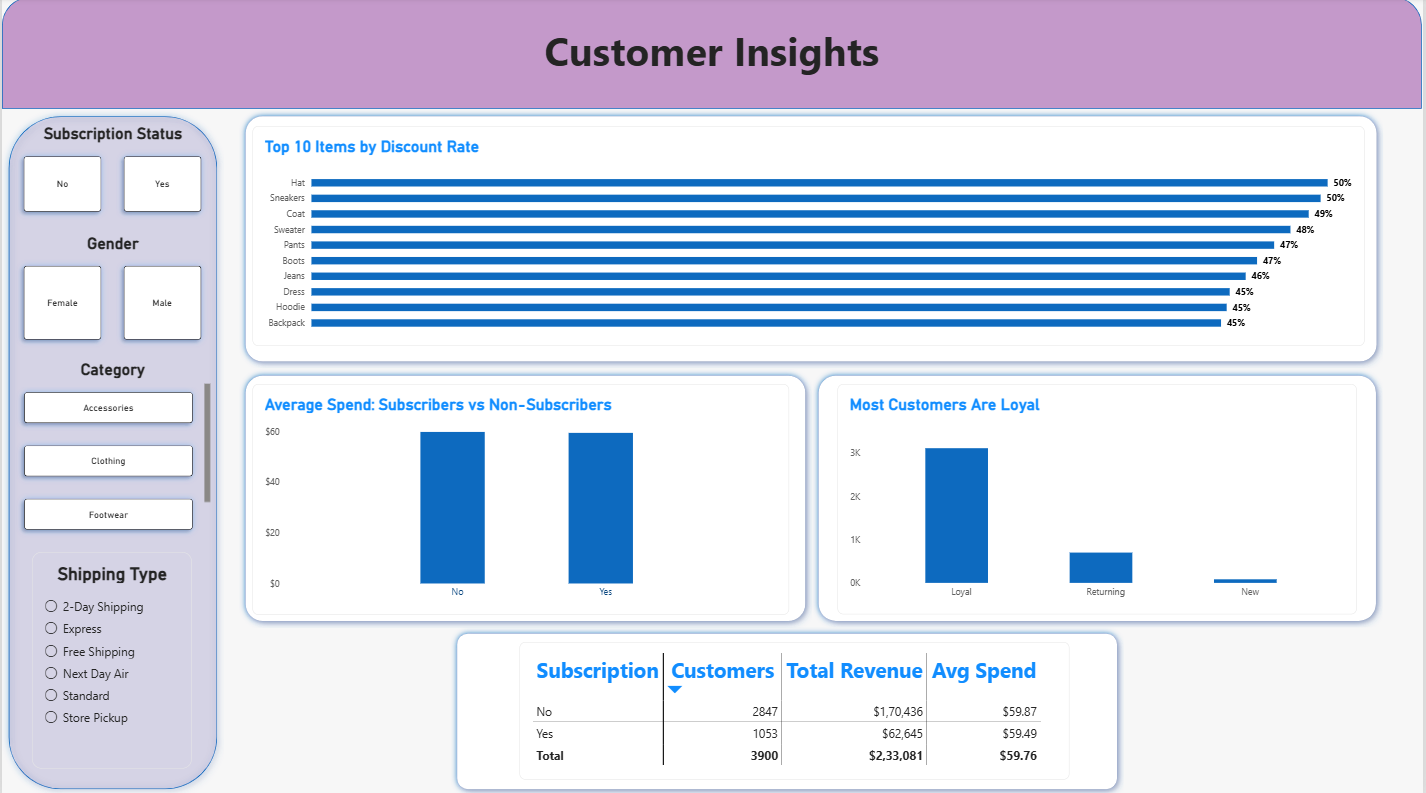

The dashboard page shown, as its layout file describes it:
{"tool":"powerbi","page":{"name":"Page 2","canvas":[1920,1080],"ordinal":1},"visuals":[{"type":"shape","box":[0,0,1919.1,151.1],"z":0},{"type":"shape","box":[0,152.2,299.8,927.8],"z":1000},{"type":"textbox","box":[0,36.3,1919.3,115.8],"z":2000},{"type":"shape","box":[320.3,152.2,1546.8,349.8],"z":3000},{"type":"clusteredBarChart","title":"Top 10 Items by Discount Rate","fields":{"Category":["customer_data.item_purchased"],"Y":["customer_data.Discount Rate %"]},"box":[338.4,174.9,1503.6,297.5],"z":4000},{"type":"shape","box":[1094.8,502.6,771.3,349.5],"z":5000},{"type":"clusteredColumnChart","title":"Most Customers Are Loyal","fields":{"Category":["customer_data.Customer Segment"],"Y":["CountNonNull(customer_data.customer_id)"]},"box":[1129.5,522.9,701.8,311.2],"z":6000},{"type":"shape","box":[320.3,502,774.5,349.8],"z":7000},{"type":"clusteredColumnChart","title":"Average Spend: Subscribers vs Non-Subscribers","fields":{"Category":["customer_data.subscription_status"],"Y":["customer_data.Avg Spend"]},"box":[338,522.9,725.1,312],"z":8000},{"type":"shape","box":[606.6,852.2,909.9,228.2],"z":9000},{"type":"tableEx","fields":{"Values":["customer_data.subscription_status","Count(customer_data.customer_id)","customer_data.Total Revenue","customer_data.Avg Spend"]},"box":[699.8,872.5,743.5,185.9],"z":10000},{"type":"advancedSlicerVisual","title":"Subscription Status","fields":{"Values":["customer_data.subscription_status"]},"box":[18.2,172.6,263.5,129.5],"z":11000},{"type":"advancedSlicerVisual","title":"Gender","fields":{"Values":["customer_data.gender"]},"box":[18.2,320.3,263.5,154.4],"z":12000},{"type":"advancedSlicerVisual","title":"Category","fields":{"Values":["customer_data.category"]},"box":[18.2,490.6,263.5,240.8],"z":13000},{"type":"listSlicer","title":"Shipping Type","fields":{"Values":["customer_data.shipping_type"]},"box":[40.9,749.5,215.8,293],"z":14000}]}

Visuals, with their boxes in screenshot pixels (x1, y1, x2, y2), scaled from the page's 1920x1080 canvas onto the 1426x793 screenshot:
shape: box=[0, 0, 1425, 111]
shape: box=[0, 112, 223, 792]
textbox: box=[0, 27, 1425, 112]
shape: box=[238, 112, 1387, 369]
"Top 10 Items by Discount Rate" clusteredBarChart: box=[251, 128, 1368, 347]
shape: box=[813, 369, 1386, 626]
"Most Customers Are Loyal" clusteredColumnChart: box=[839, 384, 1360, 612]
shape: box=[238, 369, 813, 625]
"Average Spend: Subscribers vs Non-Subscribers" clusteredColumnChart: box=[251, 384, 790, 613]
shape: box=[451, 626, 1126, 792]
tableEx - customer_data.subscription_status x Count(customer_data.customer_id): box=[520, 641, 1072, 777]
"Subscription Status" advancedSlicerVisual: box=[14, 127, 209, 222]
"Gender" advancedSlicerVisual: box=[14, 235, 209, 349]
"Category" advancedSlicerVisual: box=[14, 360, 209, 537]
"Shipping Type" listSlicer: box=[30, 550, 191, 765]
